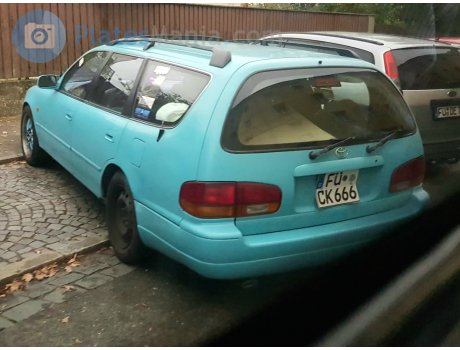License Plates: (317, 170, 372, 201)
